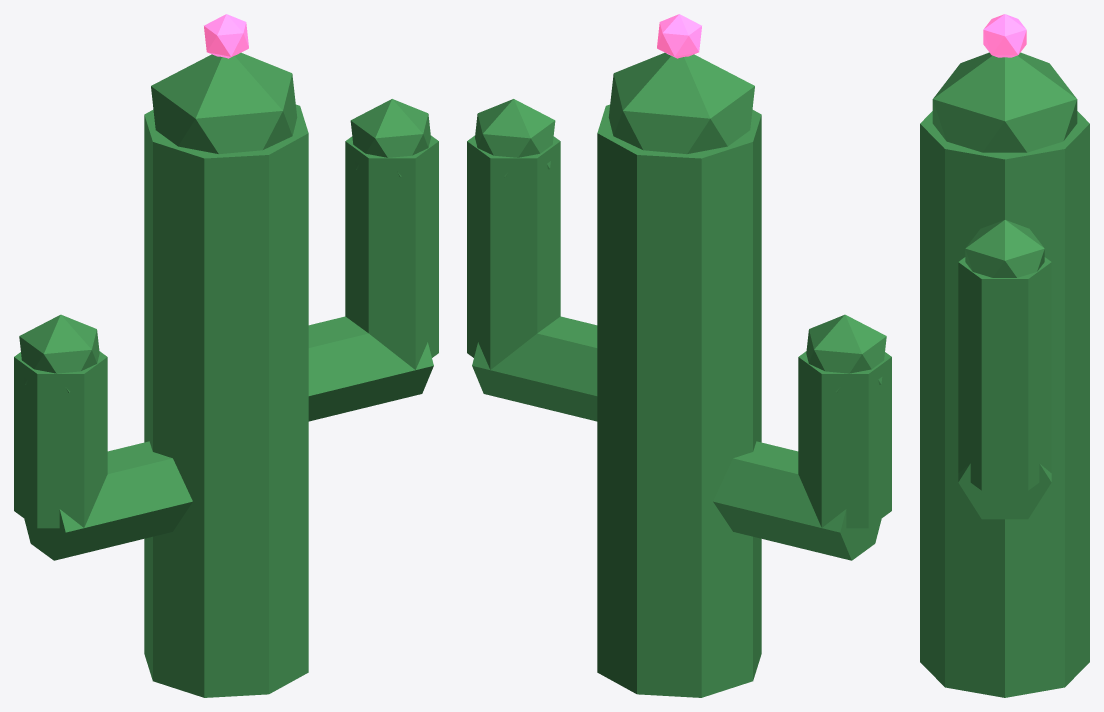
Rendered from cactus.fbx.
The picture shows the model from 3 angles, left to right: view 1: azimuth 30°, elevation 25°; view 2: azimuth 150°, elevation 25°; view 3: azimuth 270°, elevation 25°; orthographic projection.
Parts seen in each view (by area): view 1: Cactus; view 2: Cactus; view 3: Cactus.
Boxes of the visible parts, bbox=[...] form: Cactus: bbox=[14, 14, 438, 697]; Cactus: bbox=[467, 14, 891, 697]; Cactus: bbox=[920, 14, 1089, 697].
Size of the model in its own units: 2.19 by 3.37 by 0.8.
